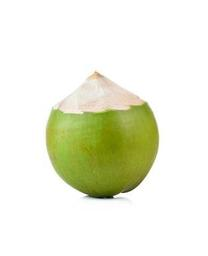coconut: (45, 69, 160, 198)
